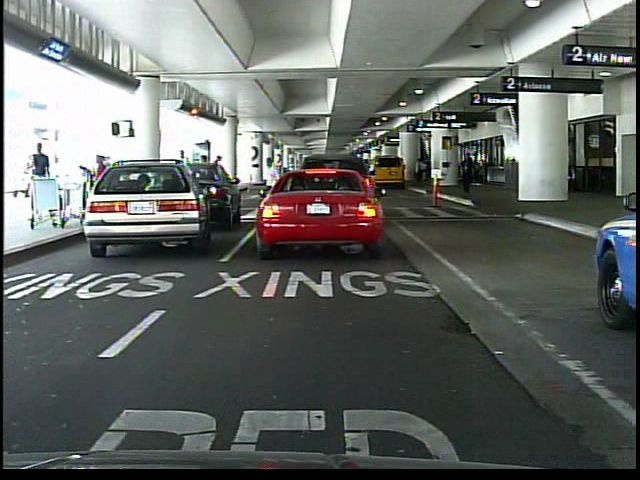person: (27, 139, 54, 223), (172, 146, 190, 224), (263, 153, 282, 205), (206, 154, 224, 204), (461, 155, 477, 196), (416, 155, 428, 188)
